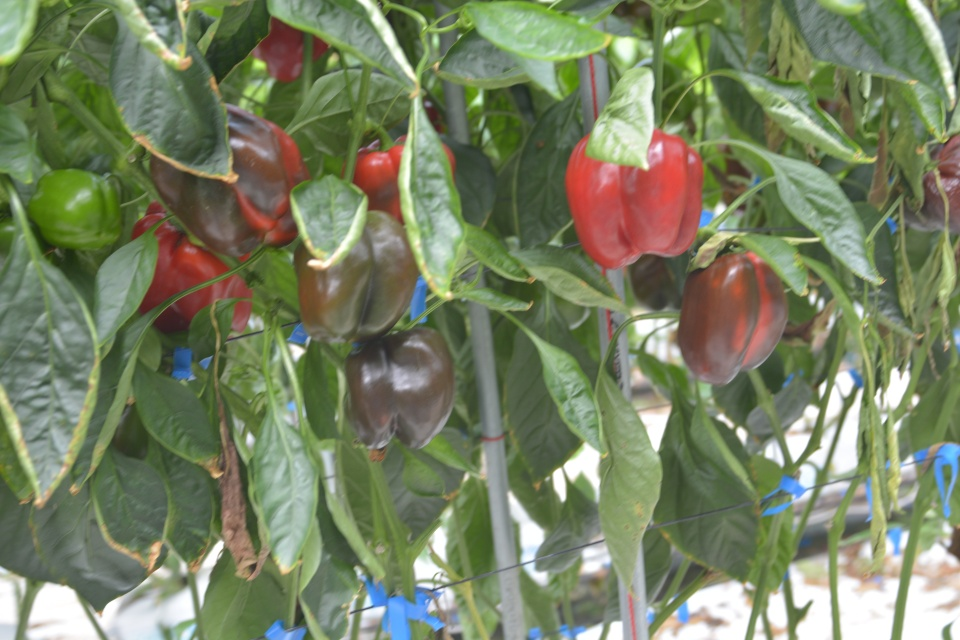fruit: (148, 101, 312, 258), (561, 118, 706, 272), (128, 197, 257, 336), (291, 216, 420, 348), (676, 248, 789, 388), (340, 325, 458, 456), (339, 132, 457, 224), (26, 165, 124, 251), (250, 12, 332, 82), (920, 138, 960, 229)
pedicle: (367, 139, 406, 149), (718, 245, 746, 253)
